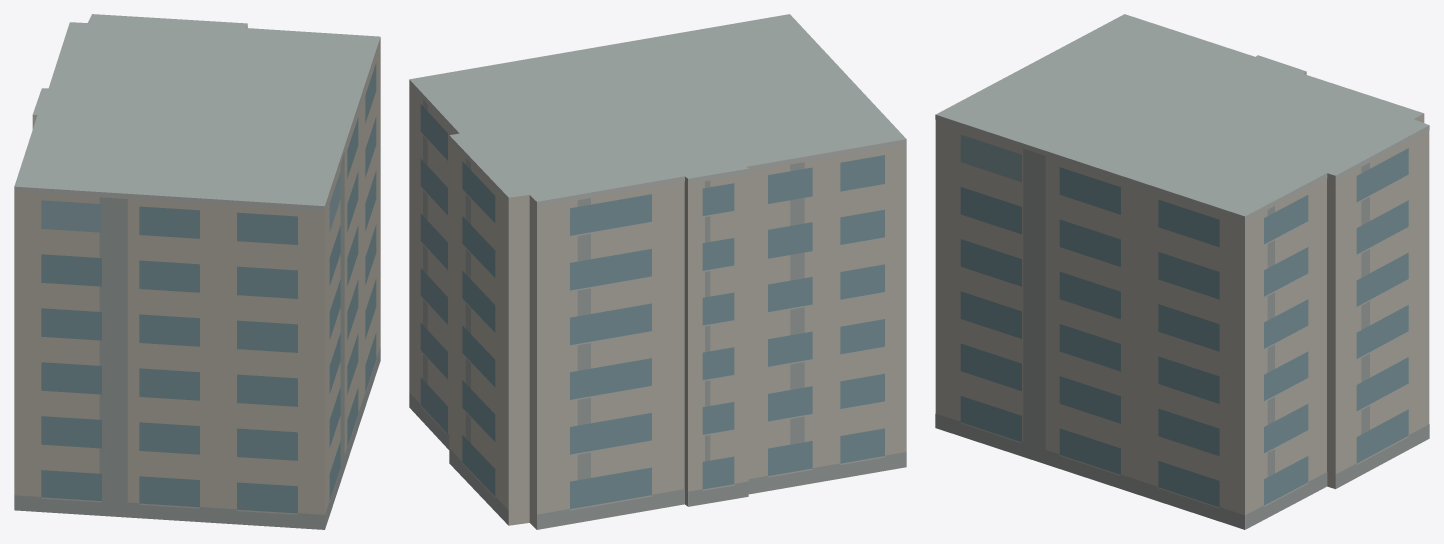
The model's file is survey-upis-32798337.glb.
3 views of the same model, side by side, from view 1: azimuth 30°, elevation 25°; view 2: azimuth 150°, elevation 25°; view 3: azimuth 270°, elevation 25° (orthographic). The views are drawn at different scales.
Parts seen in each view (by area): view 1: survey-upis-32798337.tmp; view 2: survey-upis-32798337.tmp; view 3: survey-upis-32798337.tmp.
Boxes of the visible parts, x1,y1,x2,y2 form: survey-upis-32798337.tmp: [14, 14, 380, 529]; survey-upis-32798337.tmp: [409, 14, 906, 529]; survey-upis-32798337.tmp: [935, 14, 1429, 529].
Size of the model in its own units: 20.51 by 14.8 by 21.15.
